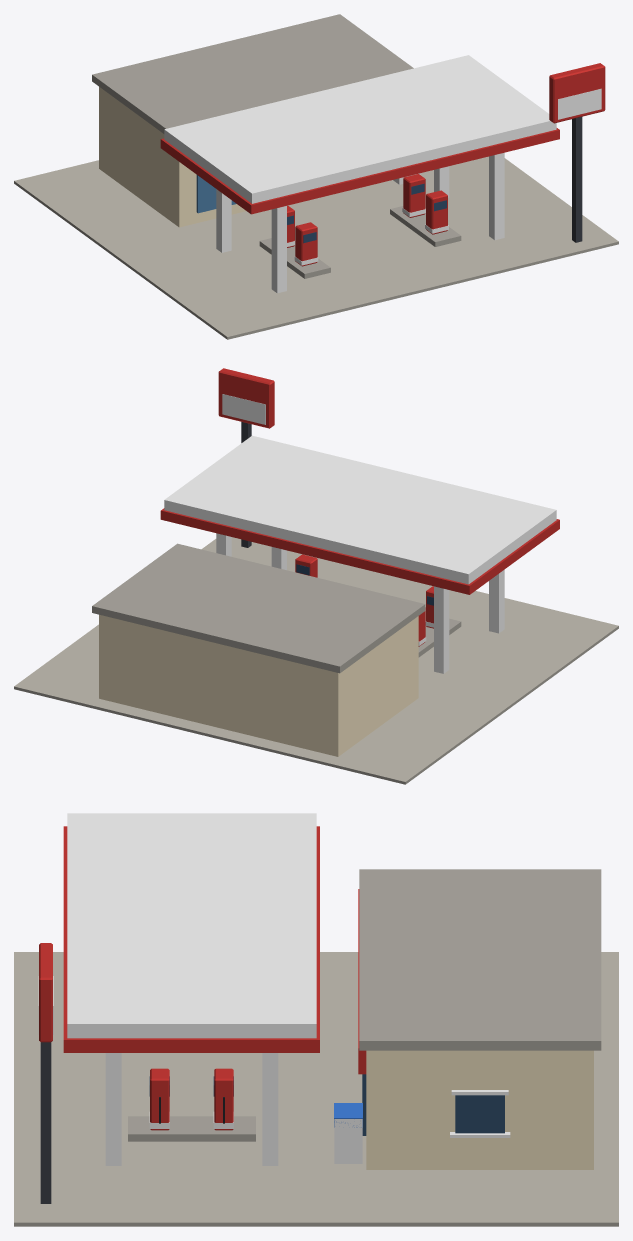
Rendered from Gas_Station.glb.
The picture shows the model from 3 angles, top to bottom: view 1: azimuth 30°, elevation 25°; view 2: azimuth 150°, elevation 25°; view 3: azimuth 270°, elevation 25°; orthographic projection. The views are drawn at different scales.
Parts seen in each view (by area): view 1: Gas_Station_Mesh; view 2: Gas_Station_Mesh; view 3: Gas_Station_Mesh.
Boxes of the visible parts, box(x1,y1,x2,y2) form: Gas_Station_Mesh: box(14, 14, 618, 339); Gas_Station_Mesh: box(14, 368, 618, 784); Gas_Station_Mesh: box(14, 813, 618, 1226).
Bounding box in the file's own units: 18 × 7.6 × 17.
Materials: 1 (1 with a texture image).
